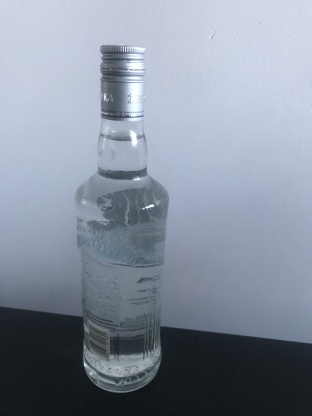nakretka: (98, 43, 147, 121)
